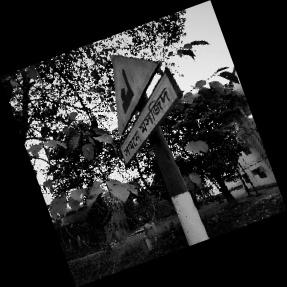Mosque in front: (110, 54, 182, 166)
